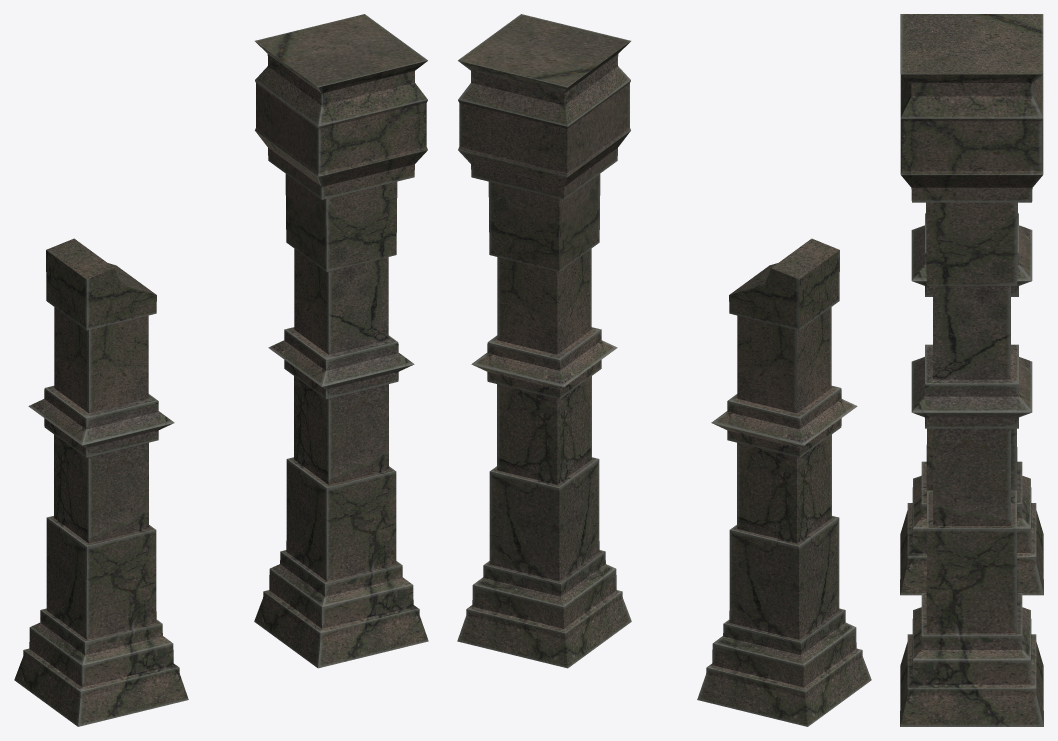
The model's file is Module_pillar.fbx.
3 views of the same model, side by side, from view 1: azimuth 30°, elevation 25°; view 2: azimuth 150°, elevation 25°; view 3: azimuth 270°, elevation 25° (orthographic). The views are drawn at different scales.
Visible parts, largest first — view 1: Pillar_1, Pillar_2; view 2: Pillar_1, Pillar_2; view 3: Pillar_1, Pillar_2.
Boxes of the visible parts, x1,y1,x2,y2 form: Pillar_1: [254, 14, 428, 668]; Pillar_2: [14, 238, 188, 726]; Pillar_1: [457, 14, 631, 668]; Pillar_2: [697, 238, 871, 726]; Pillar_1: [900, 14, 1043, 726]; Pillar_2: [900, 213, 1043, 595].
Bounding box in the file's own units: 31.24 × 49.43 × 9.87.
Materials: 1 (1 with a texture image).
